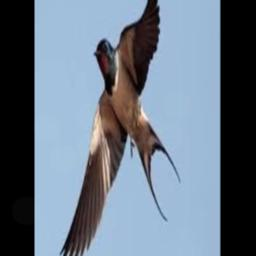Swallow: (59, 0, 179, 256)
